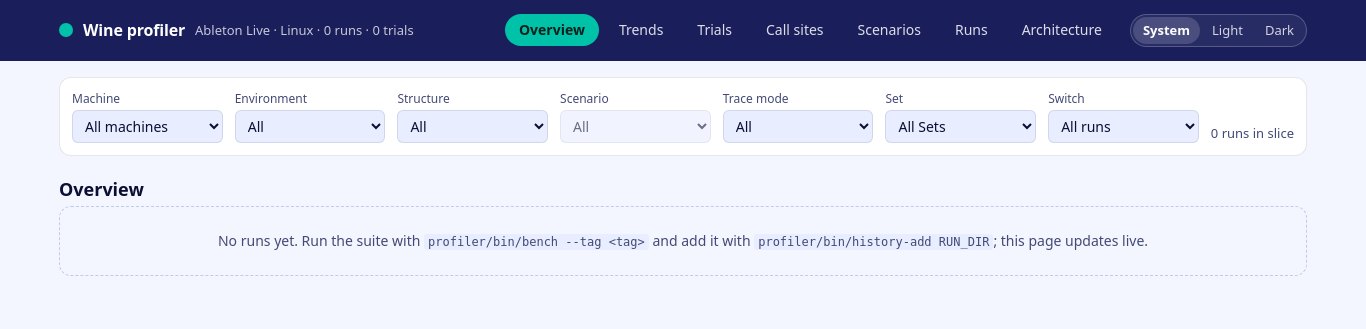
Scenario: App shell › switches panels on click and mirrors the tab in the URL hash
This screenshot has width=1366, height=329.
Click the tab "Trials" at x=715, y=30, box [683,14,746,46]
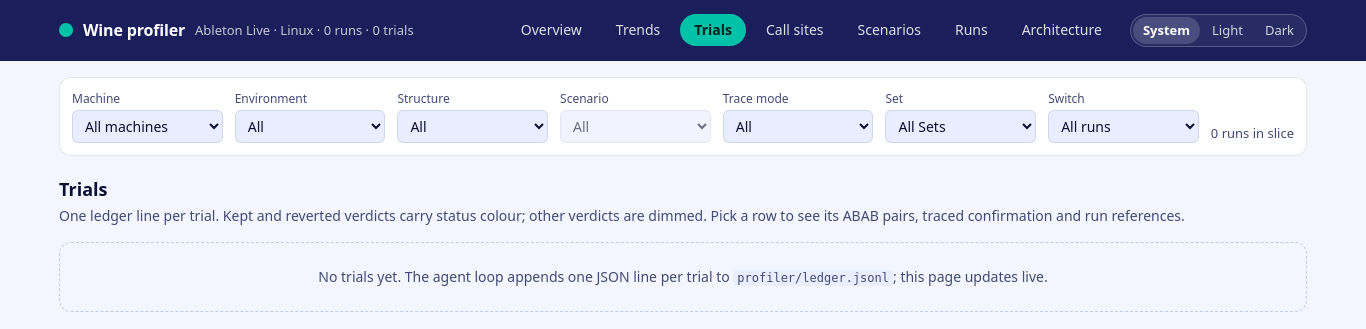
expect the heading "Trials" is shown: met, box [59,177,108,201]
